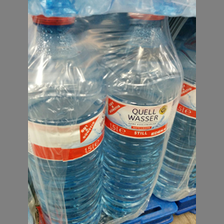water: (103, 11, 184, 217), (29, 15, 106, 224)
